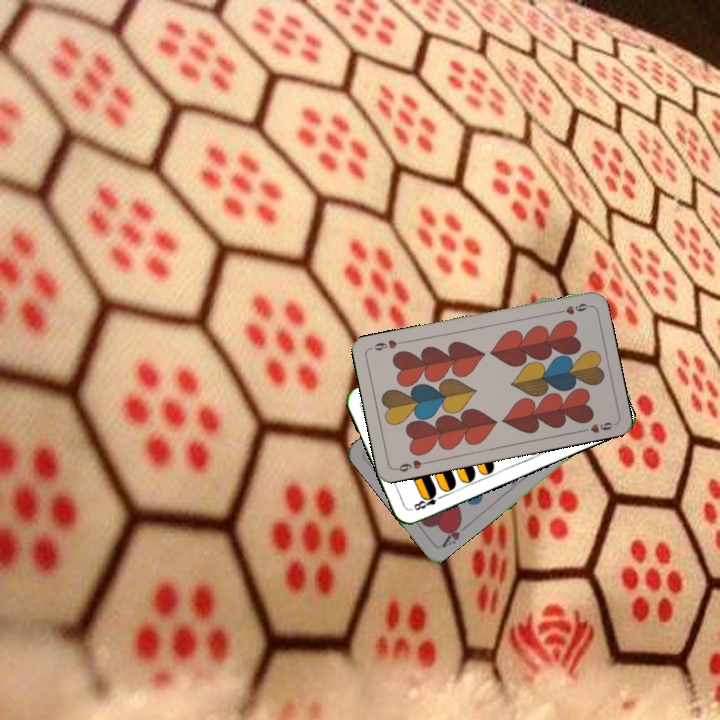E8: (408, 488, 447, 513)
H9: (391, 456, 431, 474), (552, 299, 592, 317)
HA: (437, 516, 471, 550)
